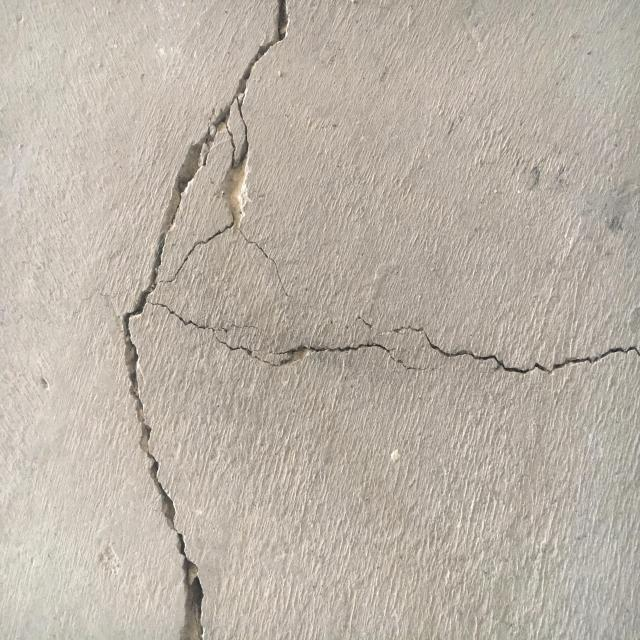Rachadura: (115, 0, 640, 640)
